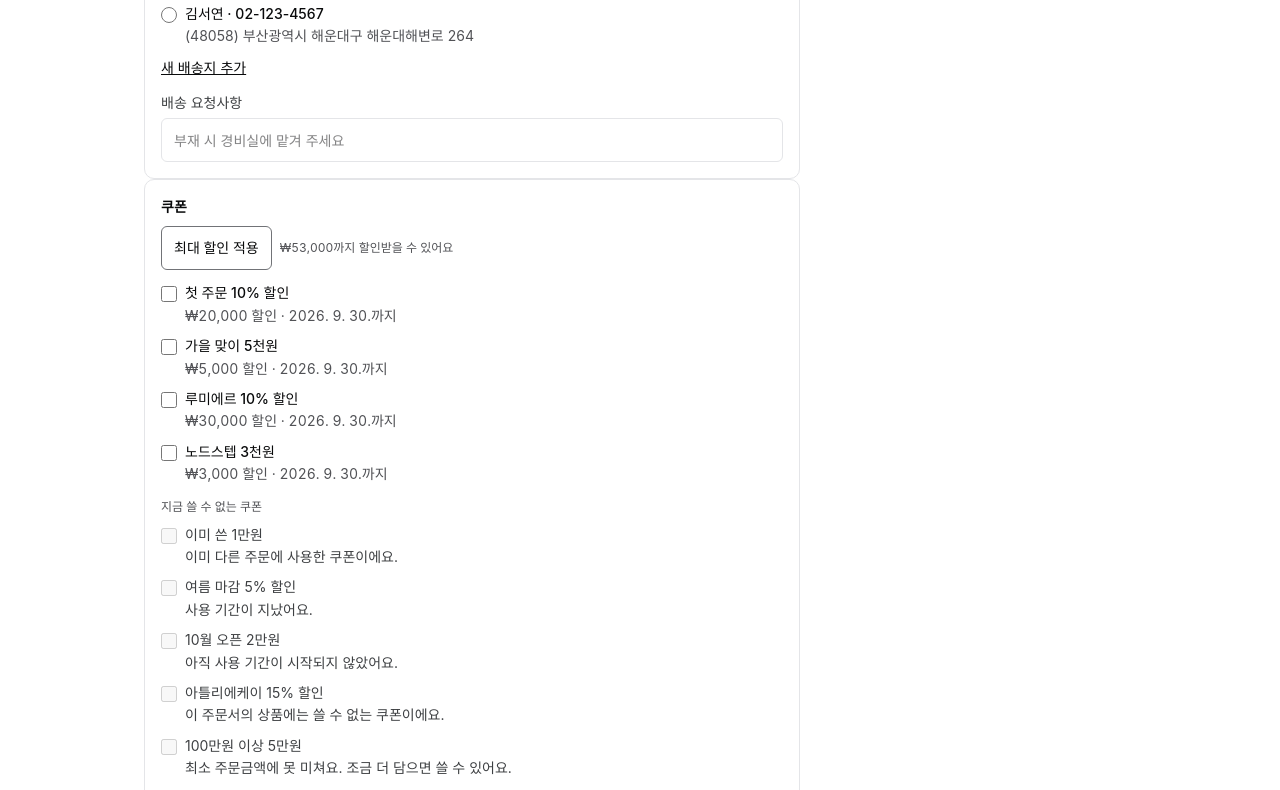
Test case: 고르면 금액이 다시 온다 › names each applied coupon beside the total
The width and height of the screenshot is (1280, 790).
(page scrolled)
Click the checkbox labelled "루미에르 10% 할인 ₩30,000 할인 · 2026. 9. 30.까지": (169, 400) 161,392 -> 177,408
(page scrolled)
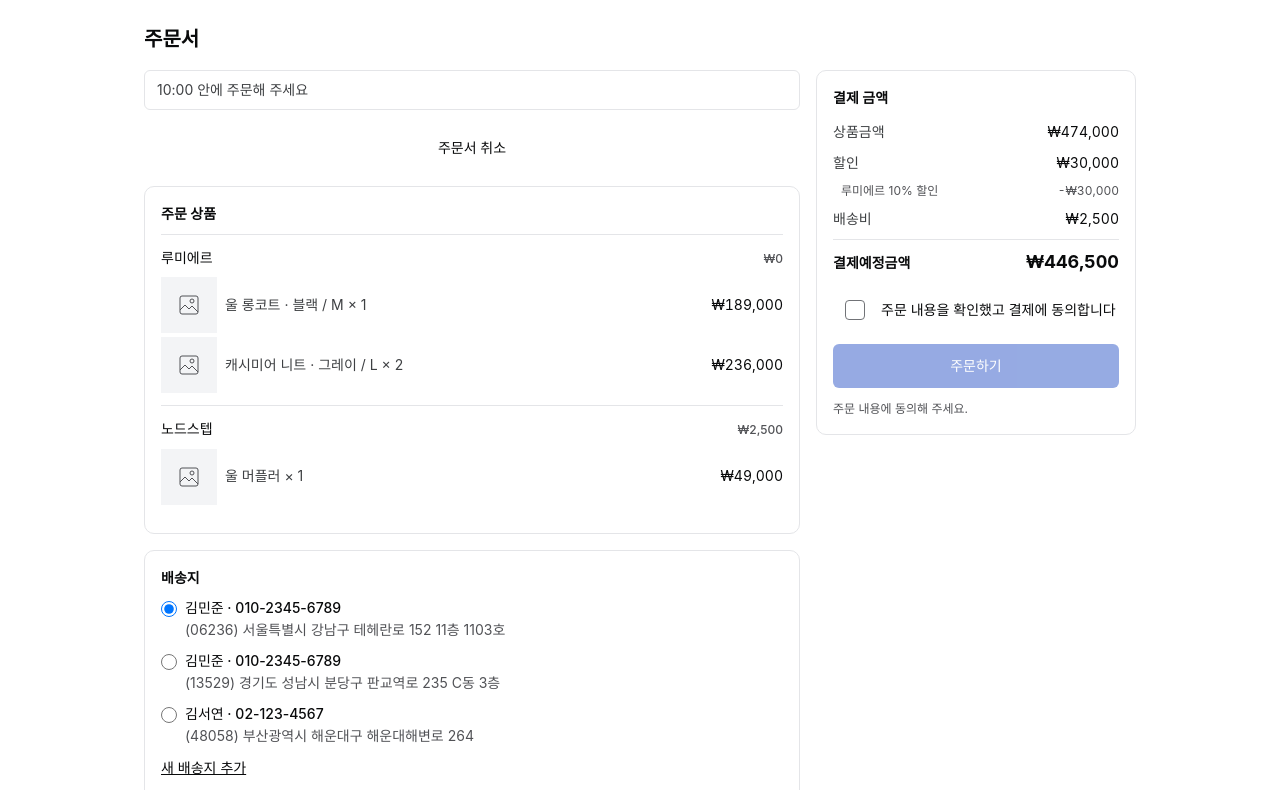
Expected: the text "루미에르 10% 할인" is shown, 841,182 -> 938,200
